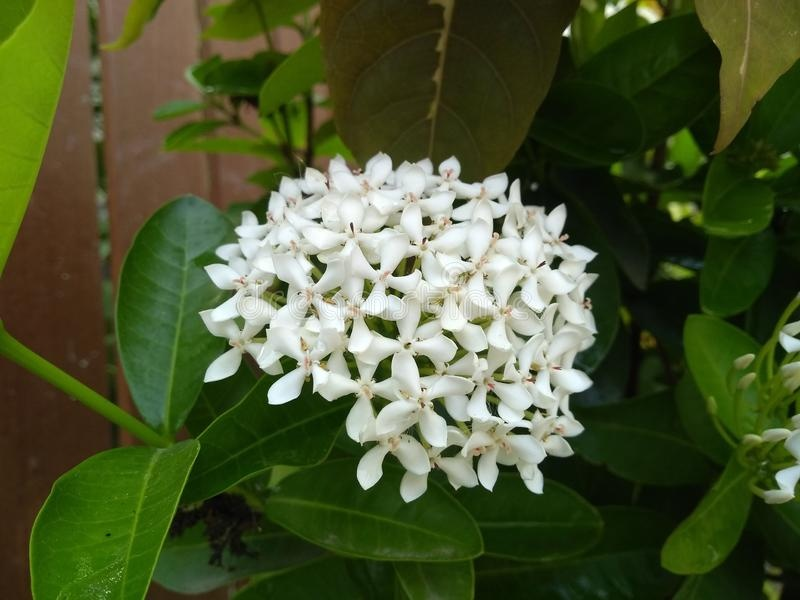Ixora: (189, 135, 634, 511)
